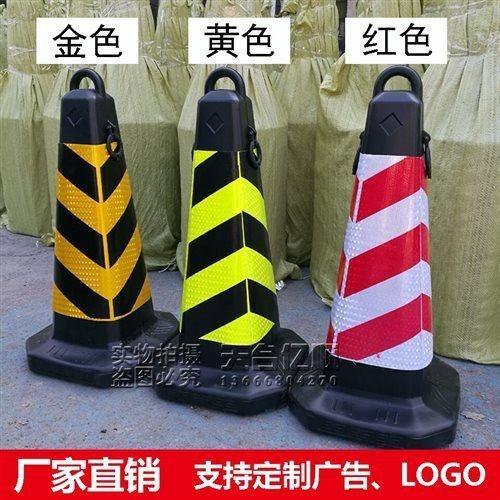cone_barrel: (303, 75, 456, 436), (28, 77, 171, 376), (164, 72, 297, 391)
